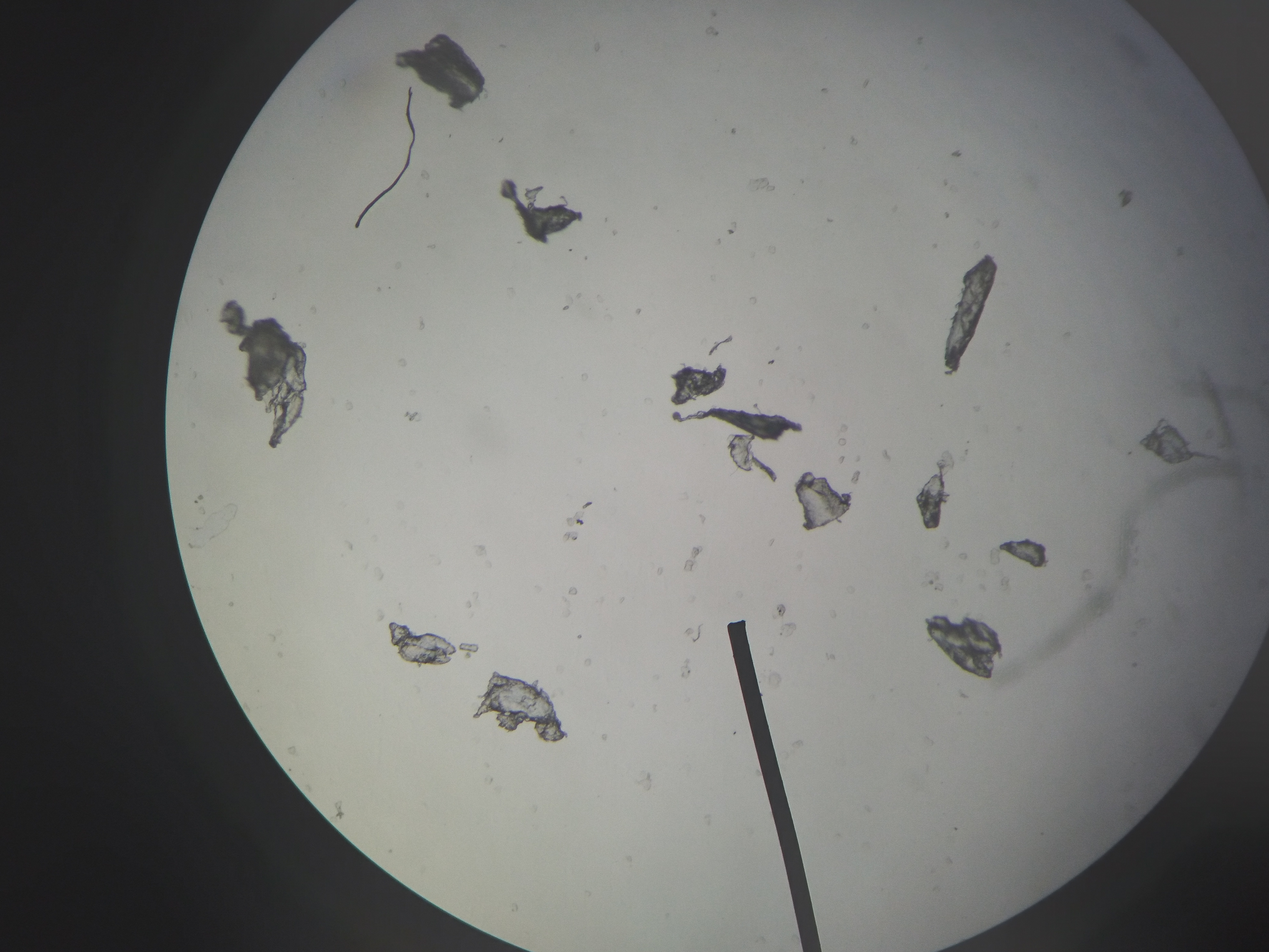microplastic: (224, 297, 307, 450), (663, 403, 799, 487), (392, 31, 495, 114), (939, 255, 1000, 380), (496, 174, 591, 254), (923, 605, 1010, 691), (476, 669, 567, 751), (789, 459, 853, 543), (912, 454, 964, 544), (1141, 416, 1220, 475), (387, 618, 469, 670), (669, 358, 735, 409), (998, 535, 1052, 572)
